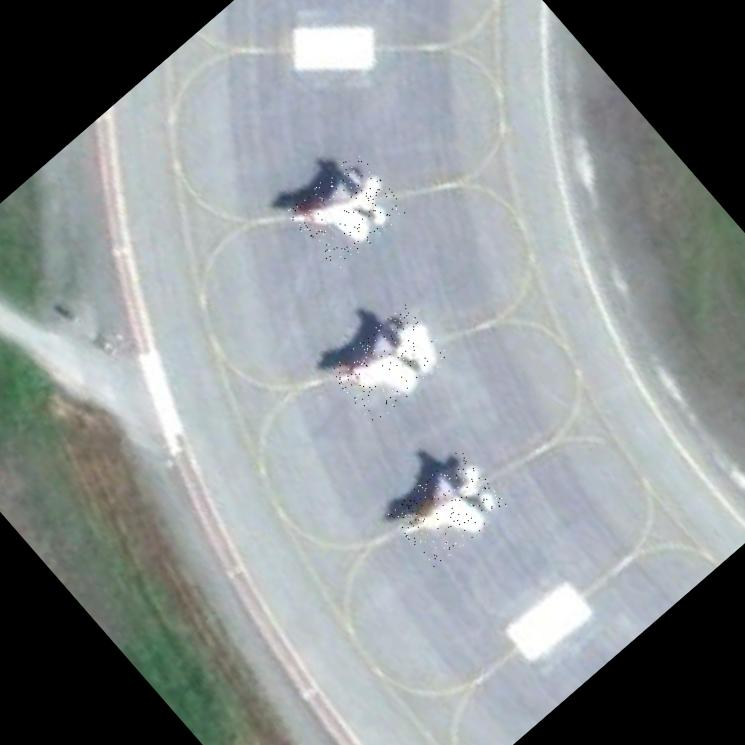A15: (324, 302, 452, 426), (384, 448, 510, 570), (284, 150, 408, 272)
